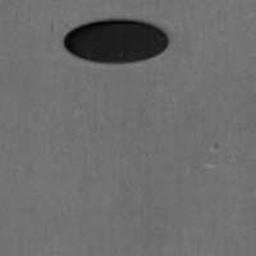Punching: (63, 19, 170, 64)
